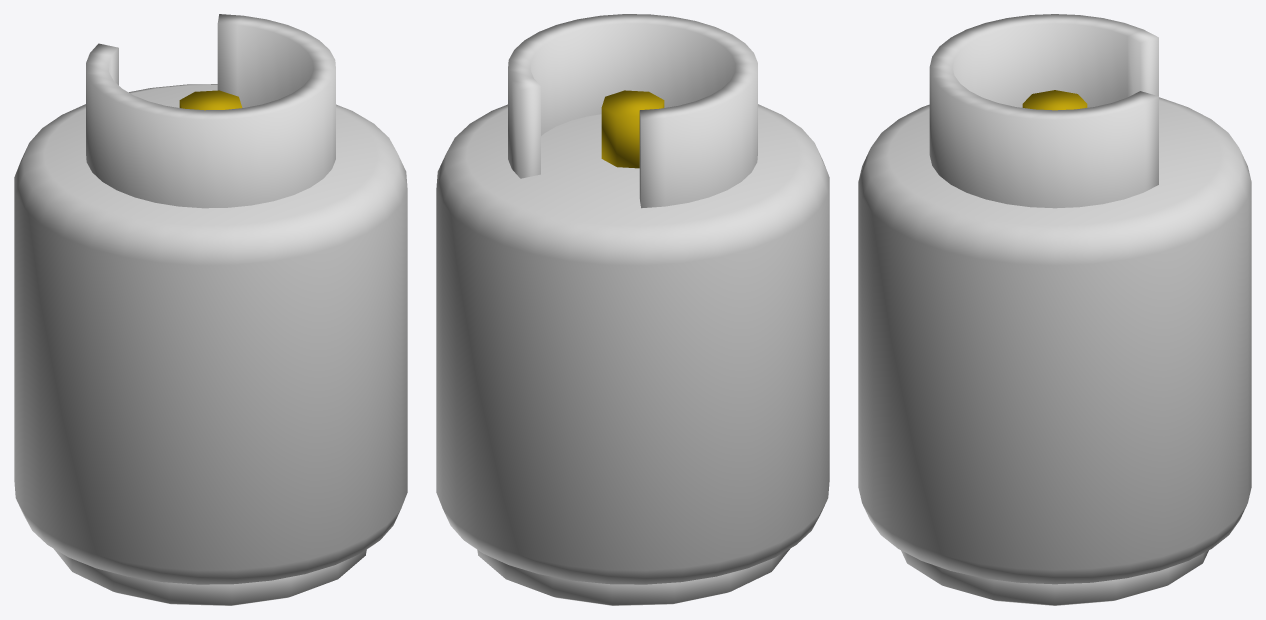
Rendered from Propane Tank.fbx.
3 renders of one model, left to right at view 1: azimuth 30°, elevation 25°; view 2: azimuth 150°, elevation 25°; view 3: azimuth 270°, elevation 25°, orthographic.
Parts seen in each view (by area): view 1: Propane Tank; view 2: Propane Tank; view 3: Propane Tank.
Part boxes in pixels (left/top/right/bottom): Propane Tank: left=14, top=14, right=407, bottom=605; Propane Tank: left=436, top=14, right=829, bottom=605; Propane Tank: left=858, top=14, right=1251, bottom=605.
Bounding box in the file's own units: 200 × 266 × 200.
